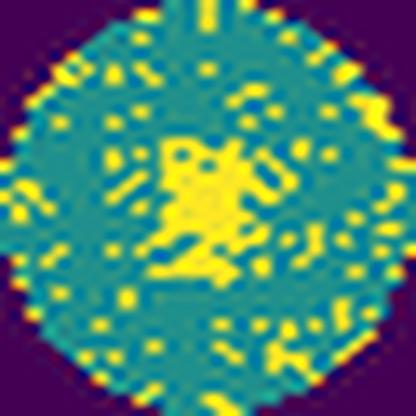Center: (137, 130, 301, 290)
